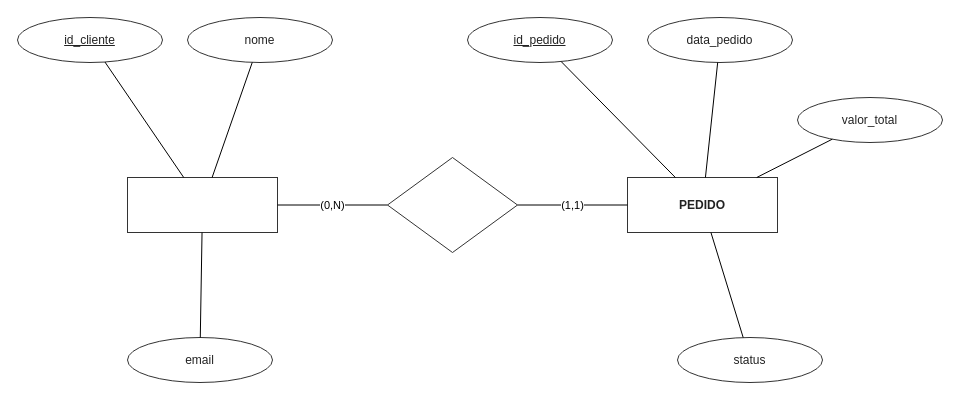
Some shapes in this 960 by 400 pixel diagram are drawn without their labels. The shapes that lost their labels are listed below. From the top down, each one's box as (x1, y1, x2, y2) in pixels, then its label:
(126, 176, 278, 232): CLIENTE
(386, 156, 518, 252): Realiza
